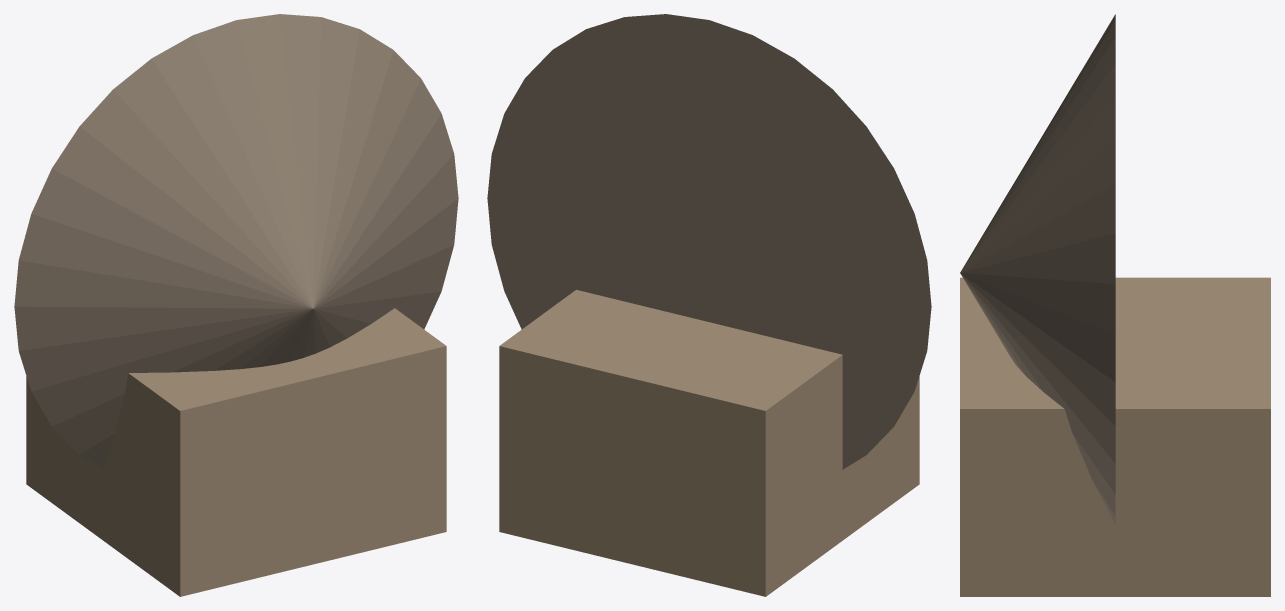
File: small_survivor_house.glb
3 views of the same model, side by side, from view 1: azimuth 30°, elevation 25°; view 2: azimuth 150°, elevation 25°; view 3: azimuth 270°, elevation 25° (orthographic).
Visible parts, largest first — view 1: geometry_0; view 2: geometry_0; view 3: geometry_0.
Part boxes in pixels (x1,y1,x2,y2): geometry_0: [14, 14, 458, 596]; geometry_0: [487, 14, 931, 596]; geometry_0: [960, 14, 1270, 596].
Bounding box in the file's own units: 5 × 5.25 × 3.
